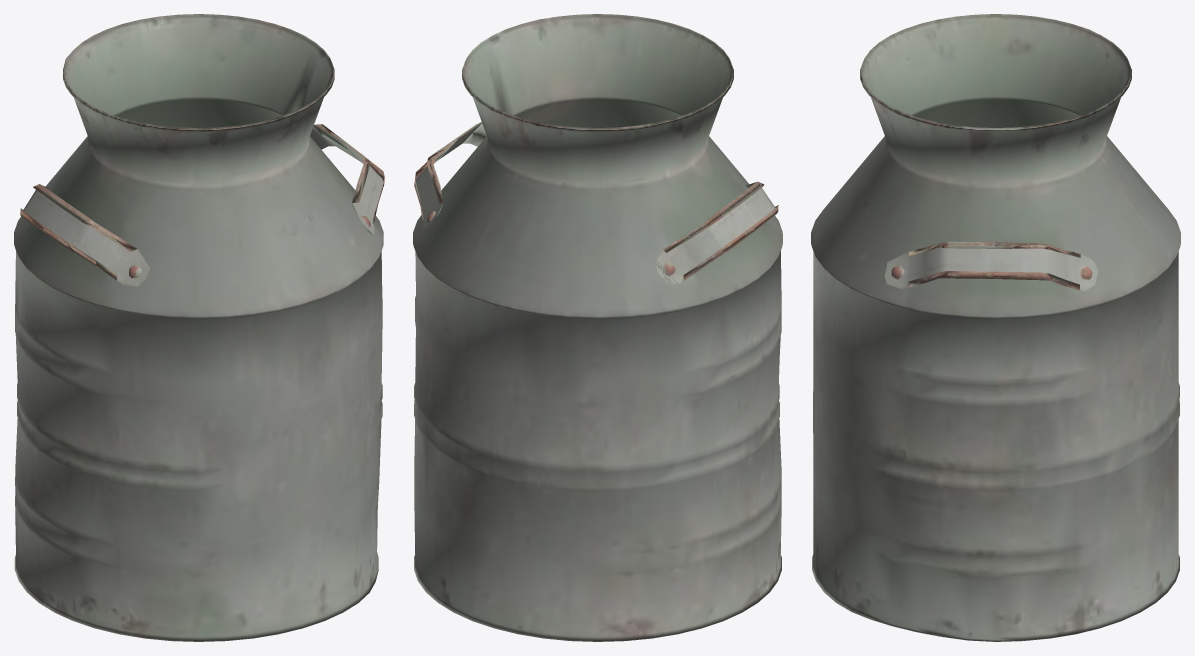
Rendered from metal_jug.glb.
3 views of the same model, side by side, from view 1: azimuth 30°, elevation 25°; view 2: azimuth 150°, elevation 25°; view 3: azimuth 270°, elevation 25° (orthographic).
Visible parts, largest first — view 1: metal_jug; view 2: metal_jug; view 3: metal_jug.
Boxes of the visible parts, x1,y1,x2,y2 form: metal_jug: (14,14,384,641); metal_jug: (413,14,782,641); metal_jug: (811,14,1180,641).
Size of the model in its own units: 0.1968 by 0.2875 by 0.1955.
Materials: 1 (1 with a texture image).
